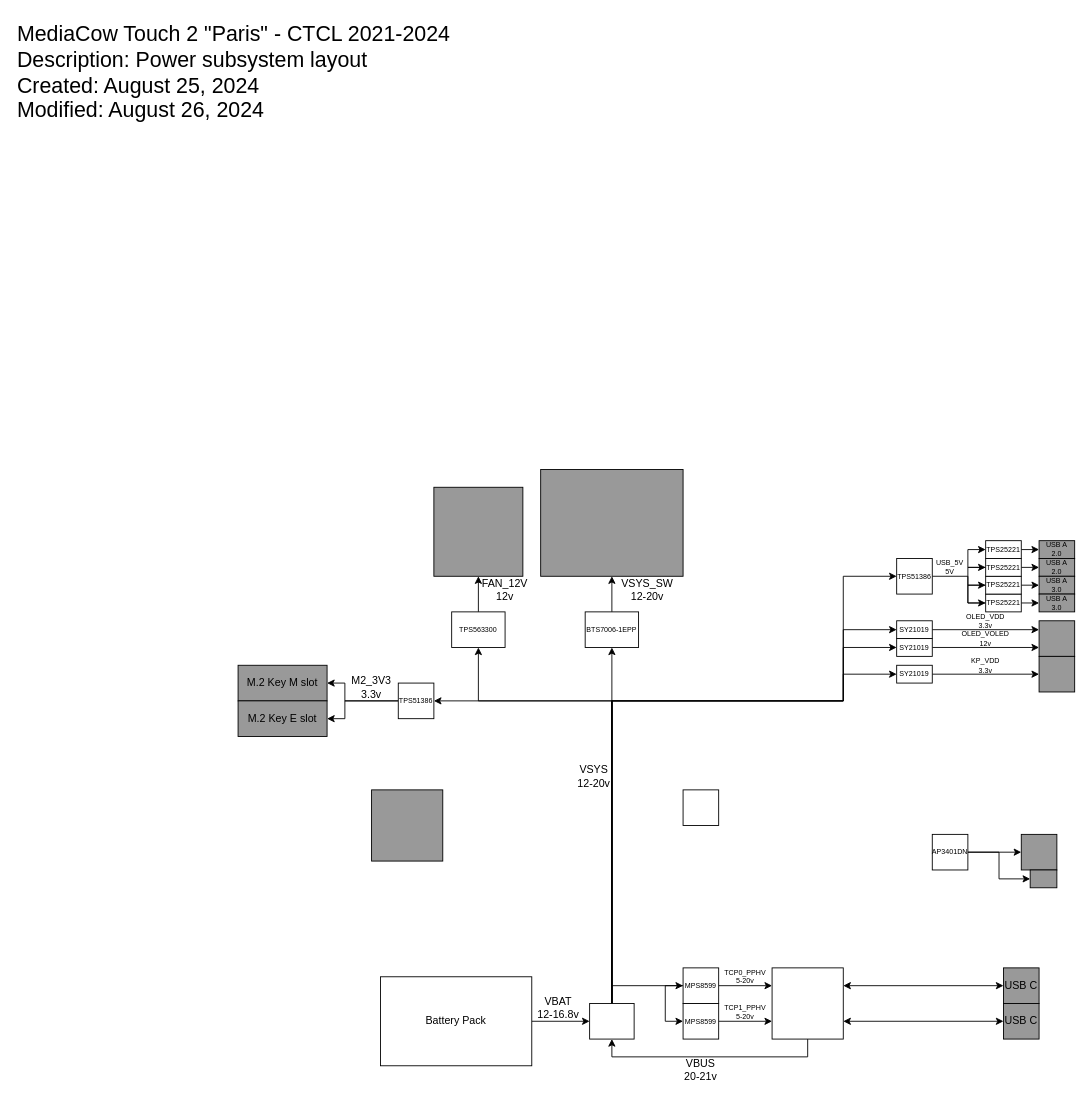
Image size: 1090x1098. Some labels were removed from this diagram. The shapes that lost their labels are listed below. From the top down, each one's centre as x and y in pixels, then its label:
pixel 478 531: Fan
pixel 611 522: LattePanda Mu
pixel 1056 638: OLED
pixel 1056 673: Keypad
pixel 407 825: SMEC STM32L496VGT + SiT1602 + SiT1533
pixel 700 807: AP3401DN Always On
pixel 1038 851: Intel I210
pixel 1043 878: W25Q16 JVSS
pixel 611 1021: LTC4162-L + MOSFETs
pixel 807 1003: TPS65988 + MOSFETs
